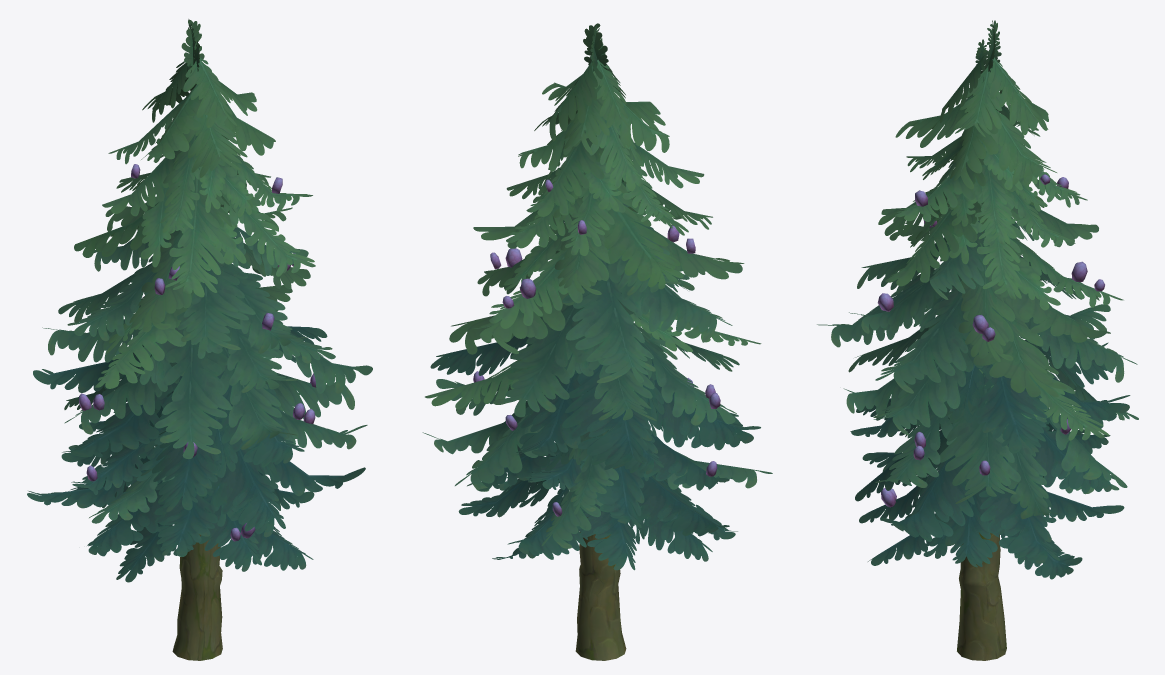
Rendered from m_env_collect_tree_cedar_03_lod1.FBX.
The picture shows the model from 3 angles, left to right: view 1: azimuth 30°, elevation 25°; view 2: azimuth 150°, elevation 25°; view 3: azimuth 270°, elevation 25°; orthographic projection.
Parts seen in each view (by area): view 1: m_env_collect_tree_cedar_03_lod1; view 2: m_env_collect_tree_cedar_03_lod1; view 3: m_env_collect_tree_cedar_03_lod1.
Boxes of the visible parts, <box> form: m_env_collect_tree_cedar_03_lod1: <box>27,19,372,660</box>; m_env_collect_tree_cedar_03_lod1: <box>422,23,772,660</box>; m_env_collect_tree_cedar_03_lod1: <box>817,20,1138,660</box>.
Size of the model in its own units: 423 by 774 by 374.
